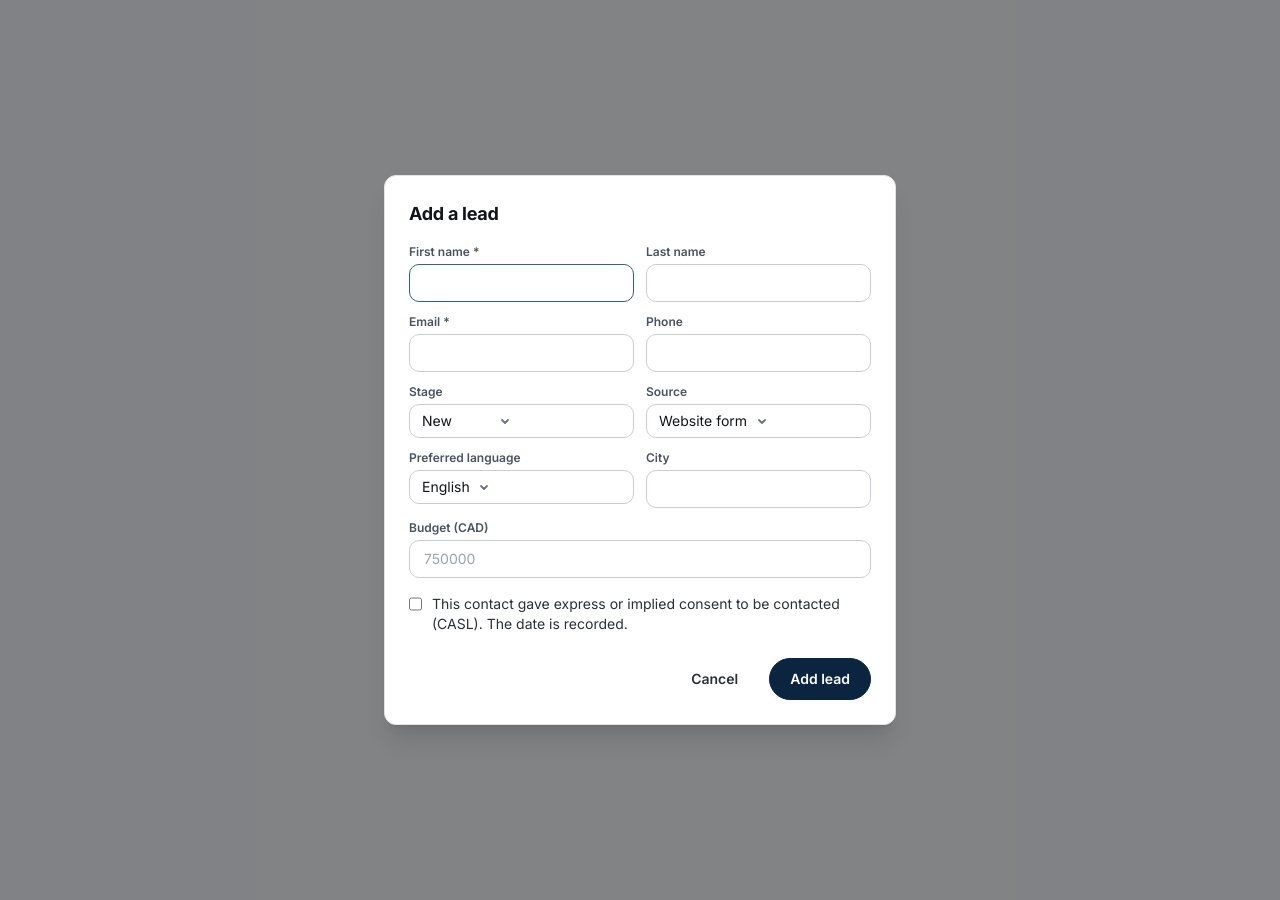
Scenario: AddLeadDialog validation › clears the error as soon as the user types a name
Click the button "Add lead". click: (820, 679)
box: [769,658,871,700]
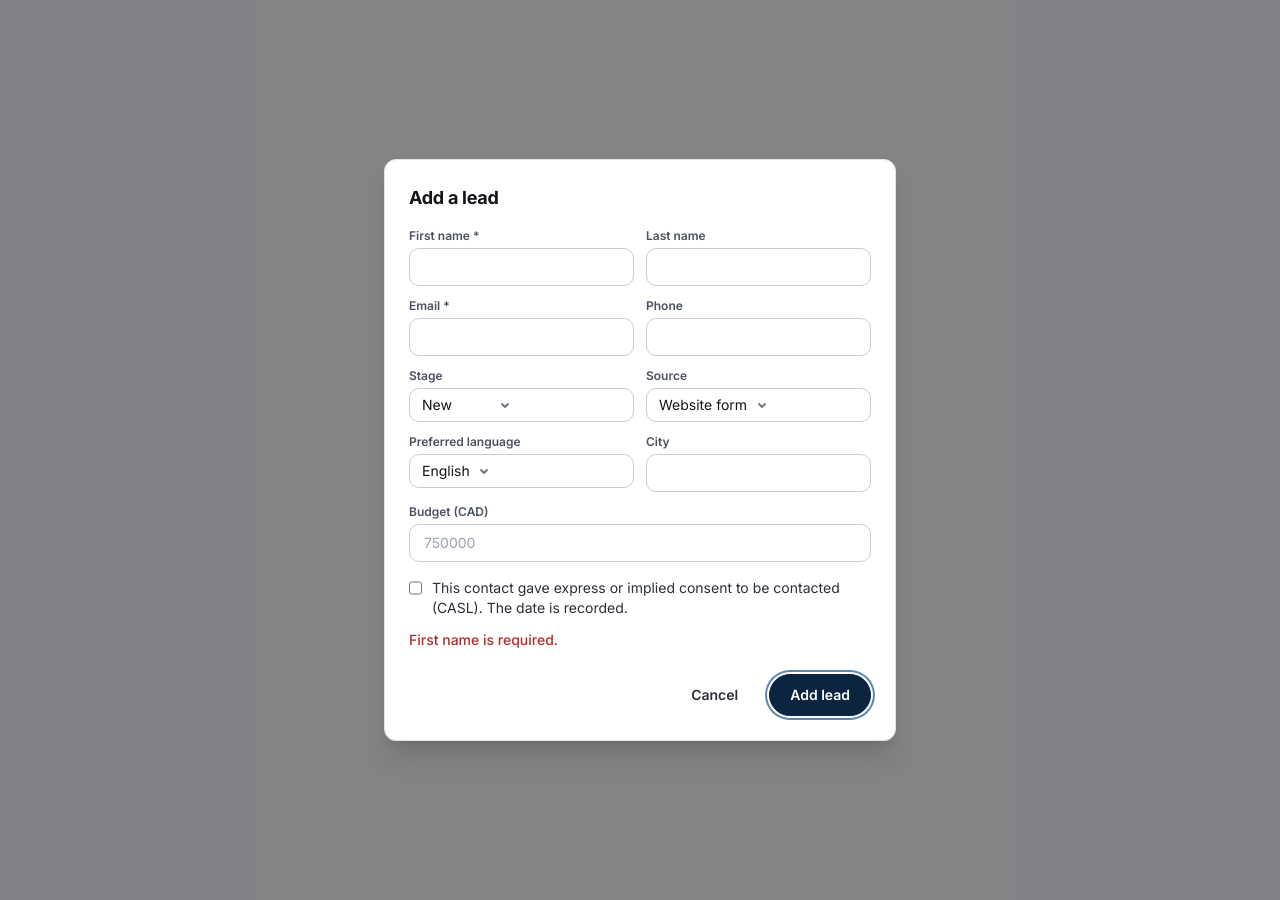
Expected: the message "First name is required." is shown, [409,631,558,648]
Note: The regression: this used to leave the alert on screen.
Type "Avery" into the field labelled "First name *". click: (529, 267)
box: [424,257,634,277]
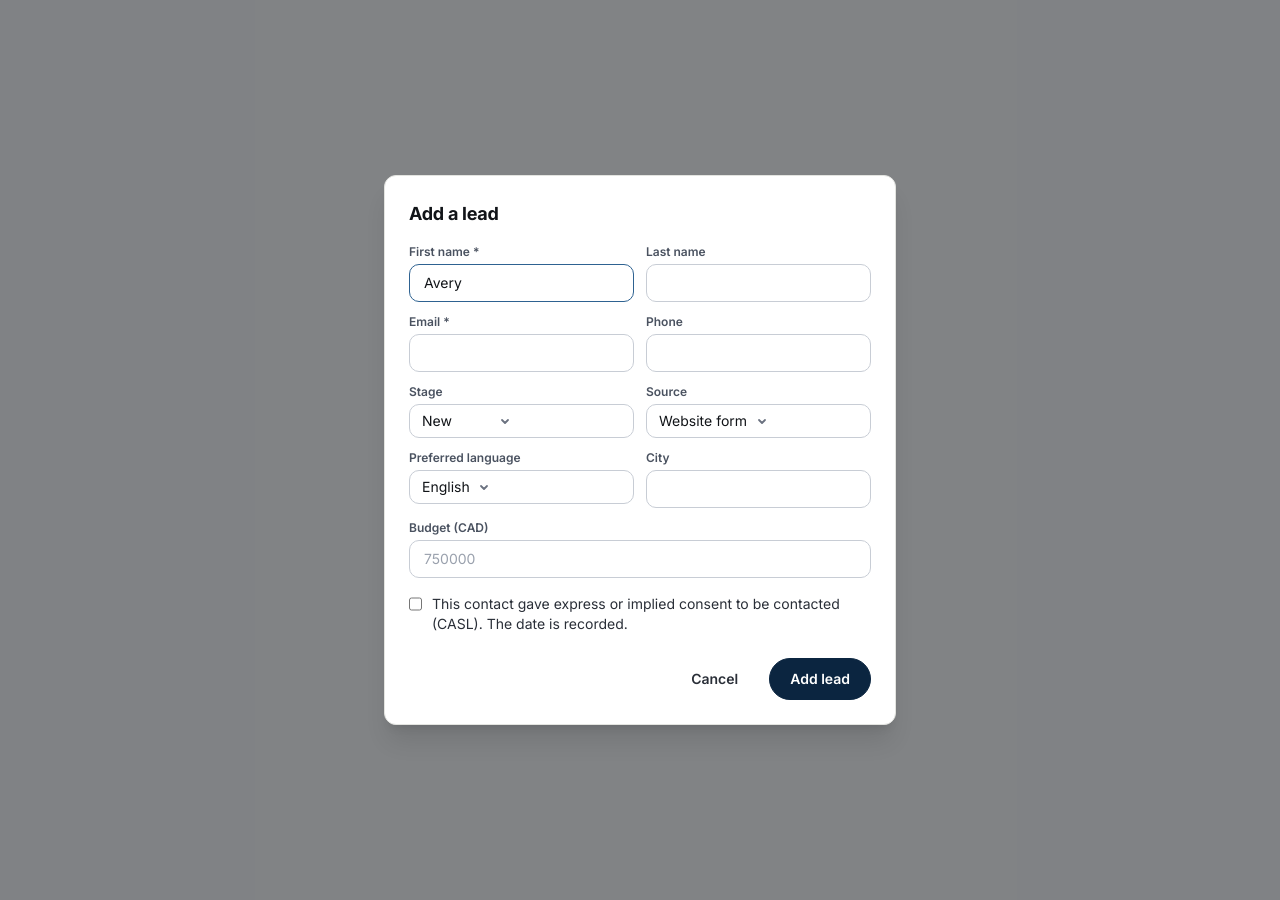
Expected: the message "First name is required." is gone
